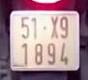1: (22, 44, 32, 70), (32, 16, 41, 40)
4: (62, 44, 74, 70)
5: (21, 16, 32, 42)
8: (35, 42, 46, 69)
9: (48, 42, 61, 70), (62, 15, 74, 41)
X: (50, 14, 60, 41)
